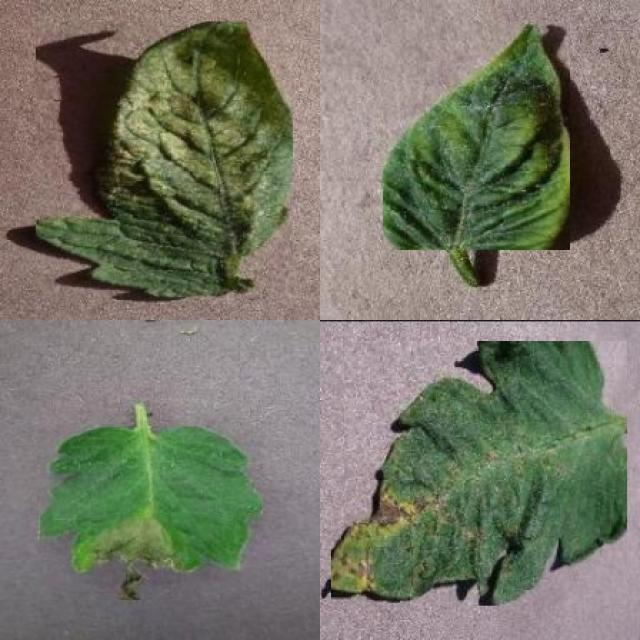Late Blight: (38, 426, 262, 600)
Septoria: (330, 340, 627, 606)
Spider Mites: (36, 22, 293, 299)
Yellow Leaf Curl Virus: (383, 23, 570, 250)
